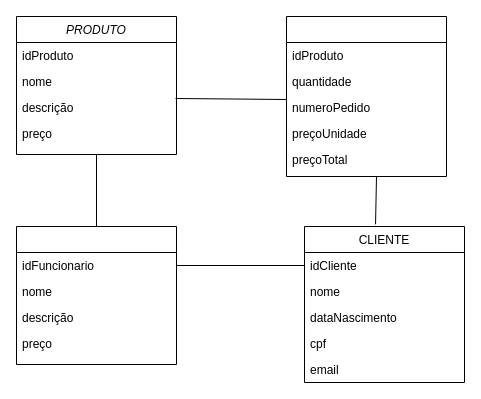
The diagram is 481 pixels wide and 399 high, and some of its shapes have lost their labels. The box of each missing label's shape, as (x1, y1, x2, y2) in pixels:
CARRINHO: (286, 16, 446, 176)
FUNCIONÁRIO: (16, 226, 176, 364)
